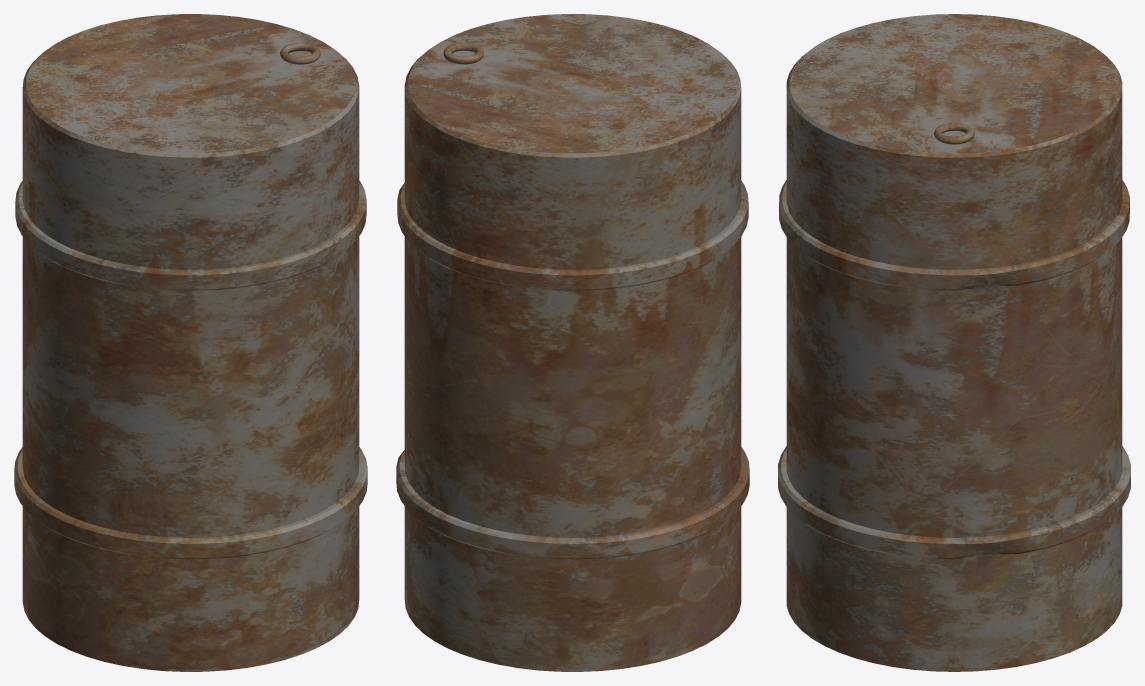
File: barrel.fbx
3 renders of one model, left to right at view 1: azimuth 30°, elevation 25°; view 2: azimuth 150°, elevation 25°; view 3: azimuth 270°, elevation 25°, orthographic.
Parts seen in each view (by area): view 1: Barrel; view 2: Barrel; view 3: Barrel.
Part boxes in pixels (bbox=[...]): Barrel: bbox=[14, 14, 367, 671]; Barrel: bbox=[396, 14, 749, 671]; Barrel: bbox=[778, 14, 1130, 671].
Size of the model in its own units: 0.5366 by 0.8778 by 0.5358.
